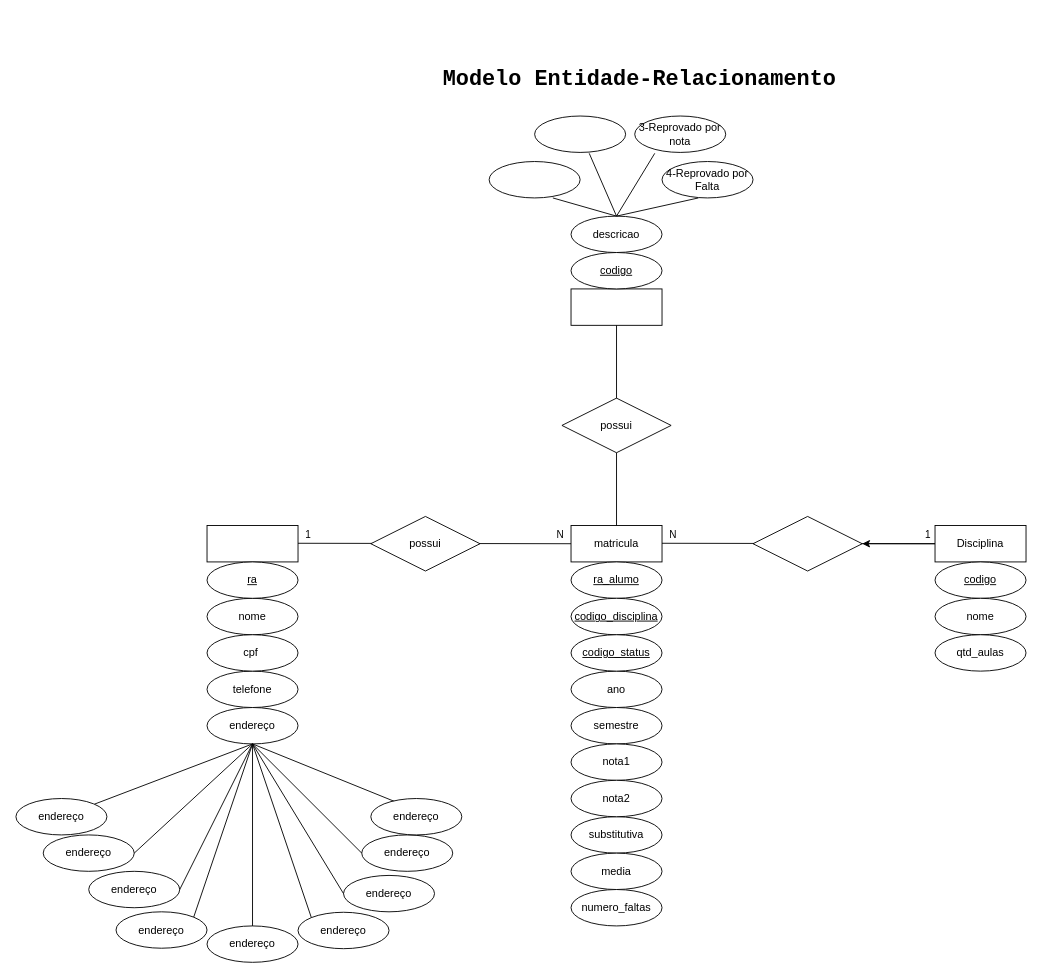
Image size: 1042x978. Some labels were removed from this diagram. Here are the shapes that lost their labels. From the top down, the centre of each, then its label:
the point at 580,133: 2-Recuperação
the point at 534,179: 1-Aprovado
the point at 616,306: Status
the point at 252,543: Aluno
the point at 807,543: tem
